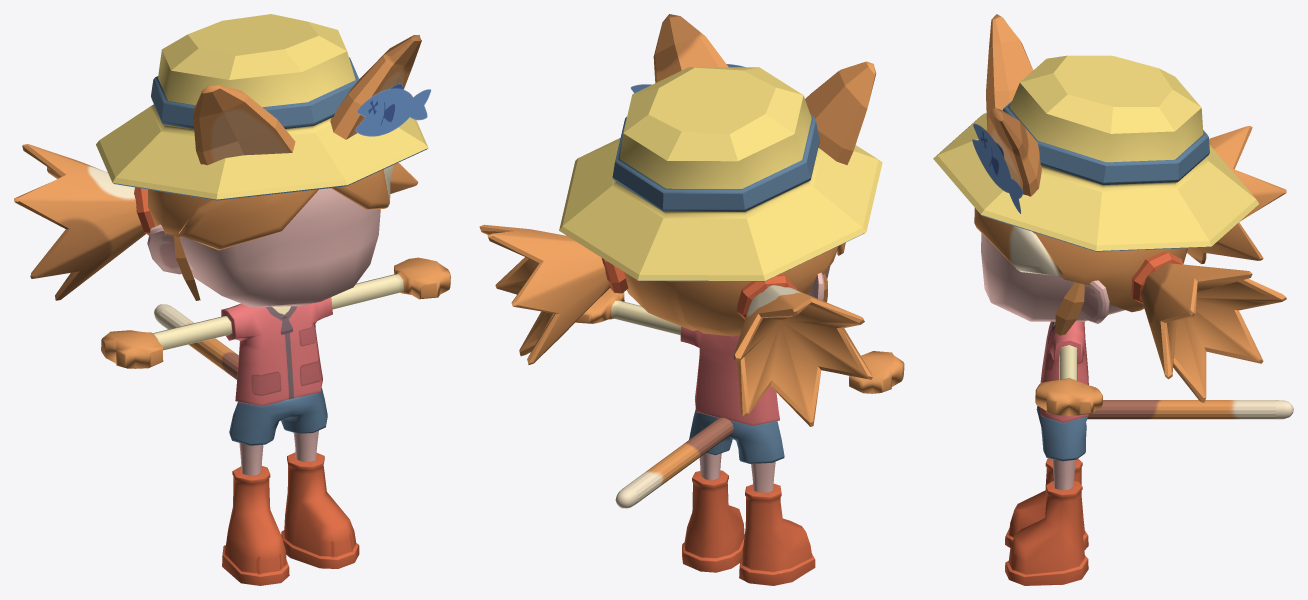
Rendered from TestMcModel.fbx.
3 views of the same model, side by side, from view 1: azimuth 30°, elevation 25°; view 2: azimuth 150°, elevation 25°; view 3: azimuth 270°, elevation 25° (orthographic). The views are drawn at different scales.
Visible parts, largest first — view 1: McModel_Tail; view 2: McModel_Tail; view 3: McModel_Tail.
Boxes of the visible parts, x1,y1,x2,y2 form: McModel_Tail: (14, 14, 450, 585); McModel_Tail: (479, 14, 904, 585); McModel_Tail: (933, 14, 1293, 585).
Size of the model in its own units: 1.58 by 1.98 by 1.31.
